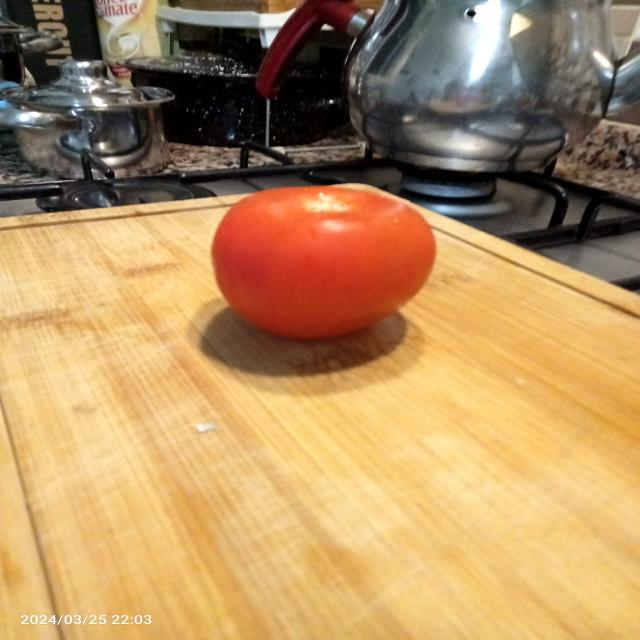tomato: (193, 168, 451, 348)
